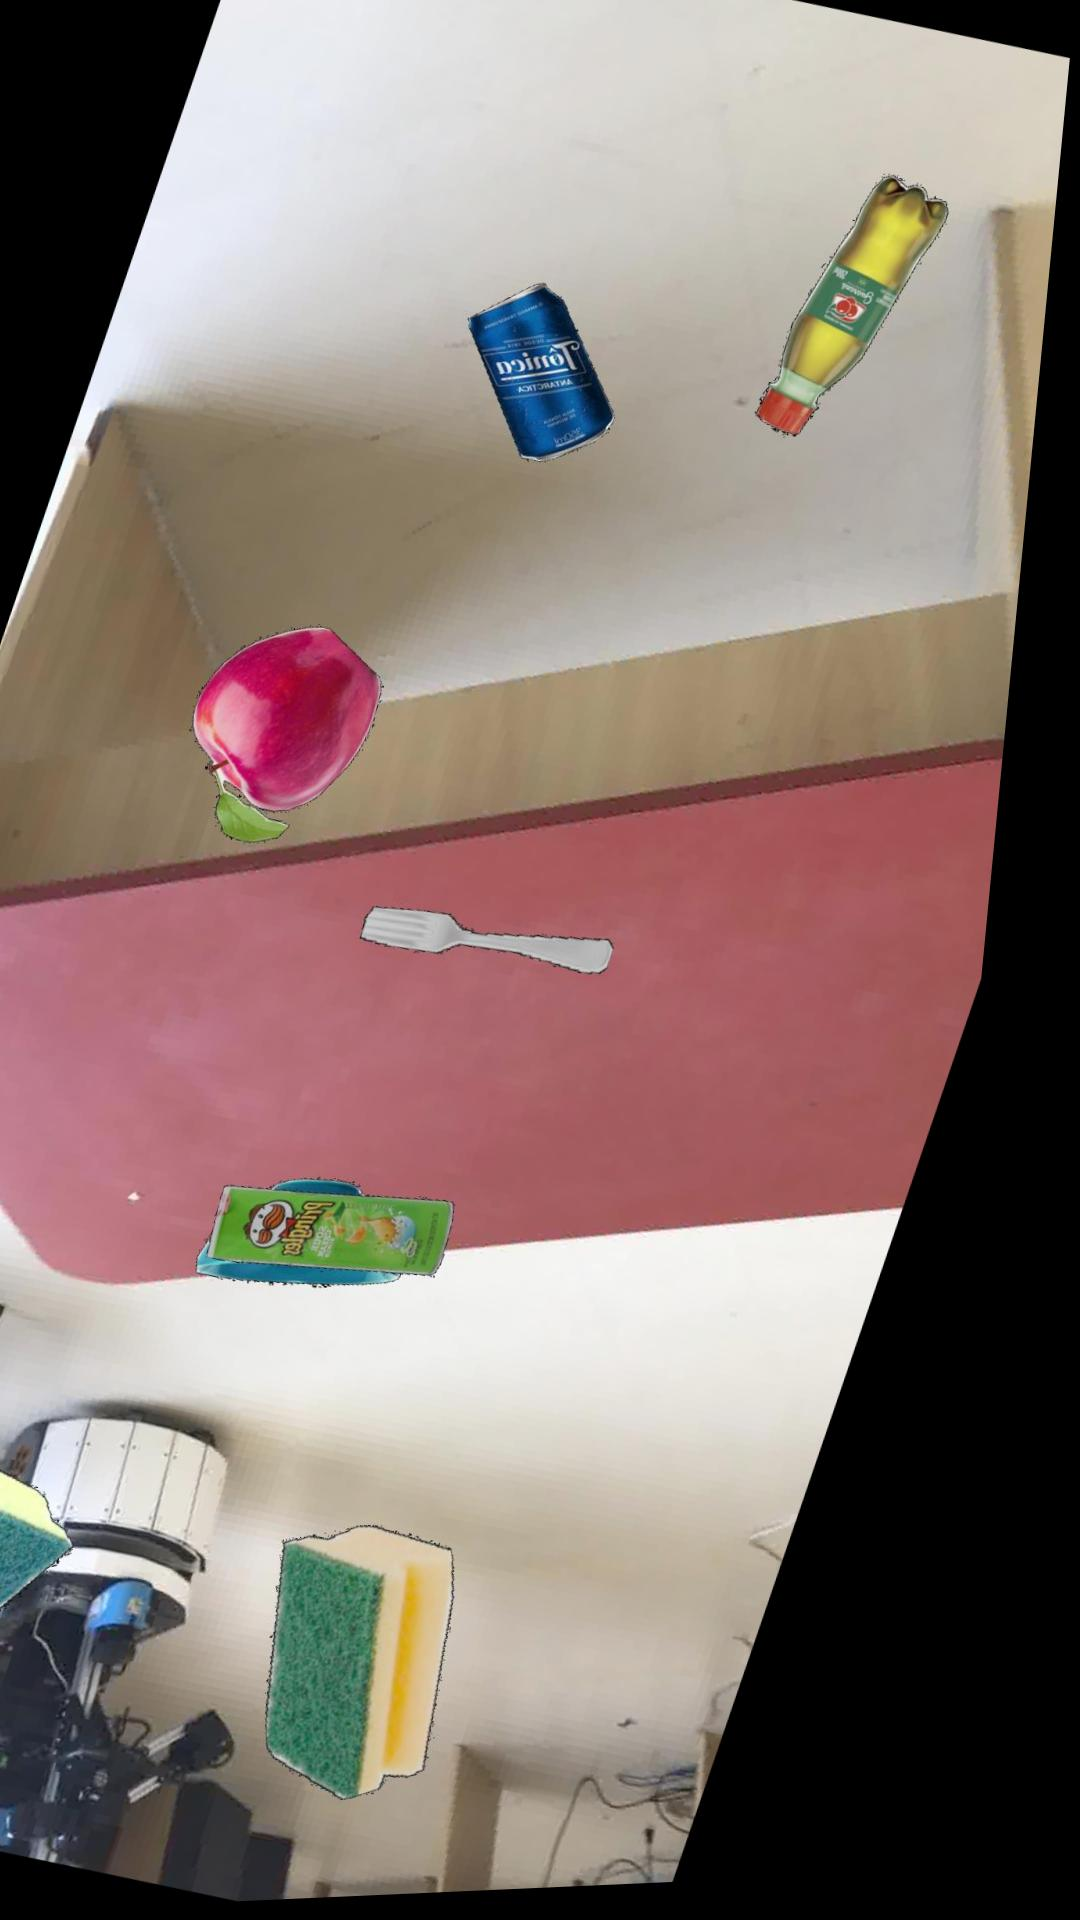apple: (206, 630, 393, 847)
bowl: (220, 1182, 425, 1292)
fork: (377, 911, 632, 981)
guarana: (761, 183, 951, 444)
pringles: (229, 1188, 477, 1282)
sponge: (298, 1531, 485, 1805), (0, 1461, 103, 1636)
tonic: (472, 289, 621, 468)
